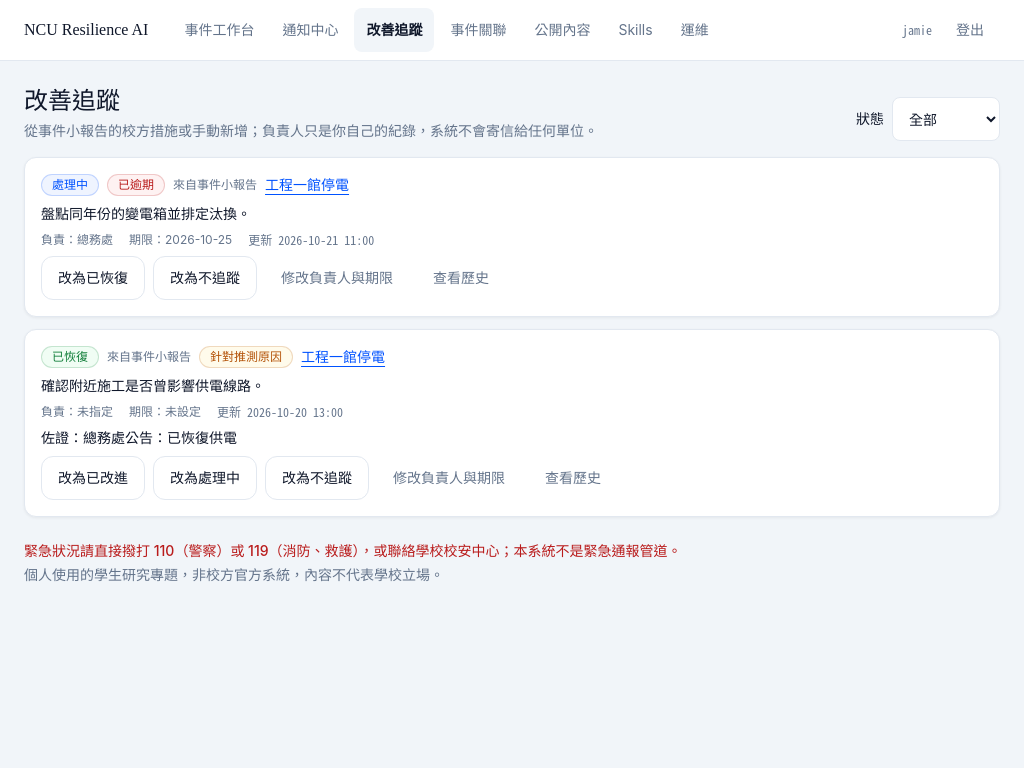
ResponseActions › 查看狀態變更歷史
Step 1. Click the button "查看歷史" below "盤點同年份的變電箱並排定汰換。" → (461, 278), box [417, 256, 505, 300]
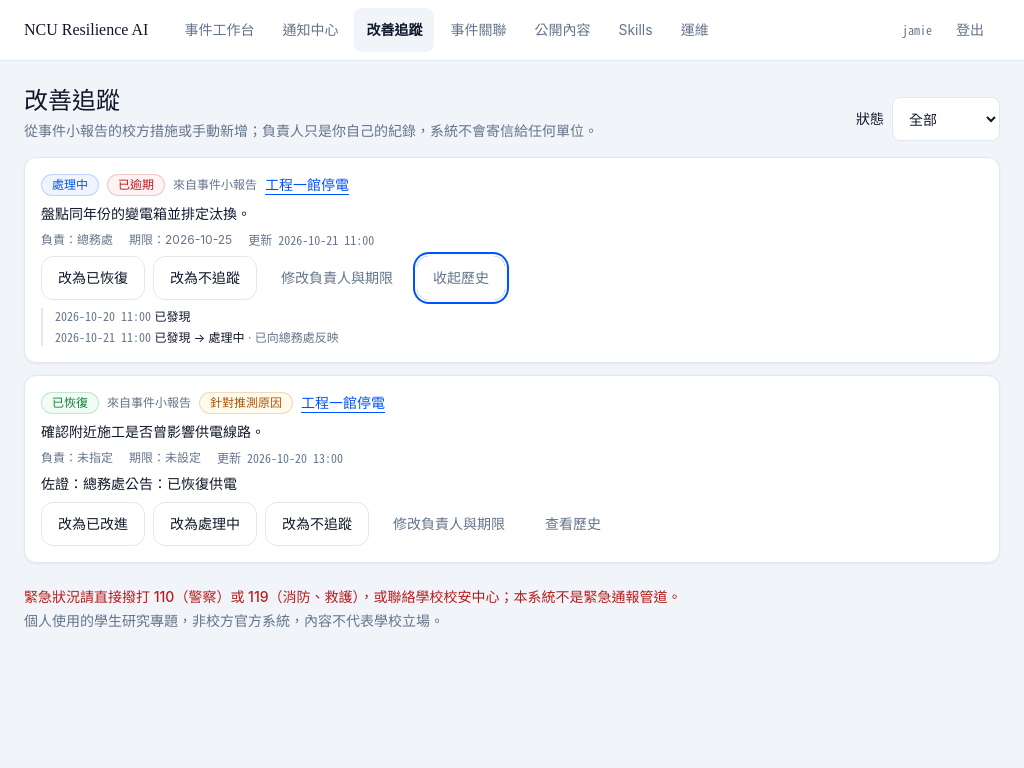
Check: the list item "2026-10-20 11:00 已發現" is shown, box [55, 307, 190, 324]
Check: the list item "2026-10-21 11:00 已發現 → 處理中 · 已向總務處反映" is shown, box [55, 328, 339, 345]
